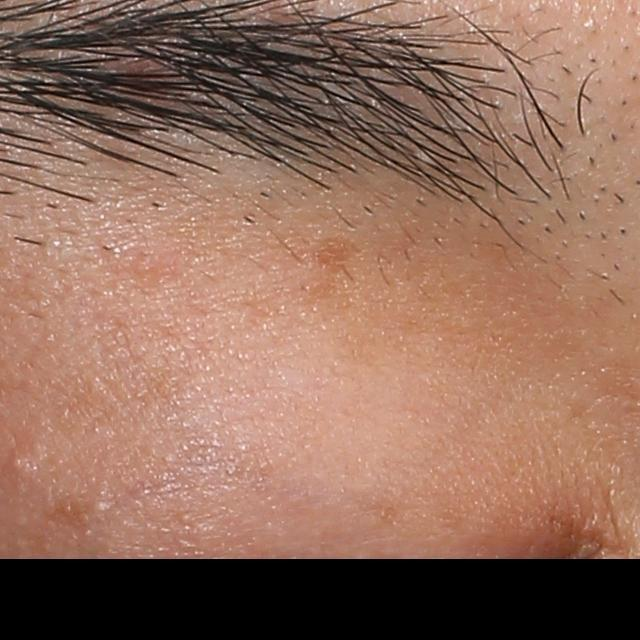melasma: (312, 235, 364, 278), (47, 497, 94, 531)
